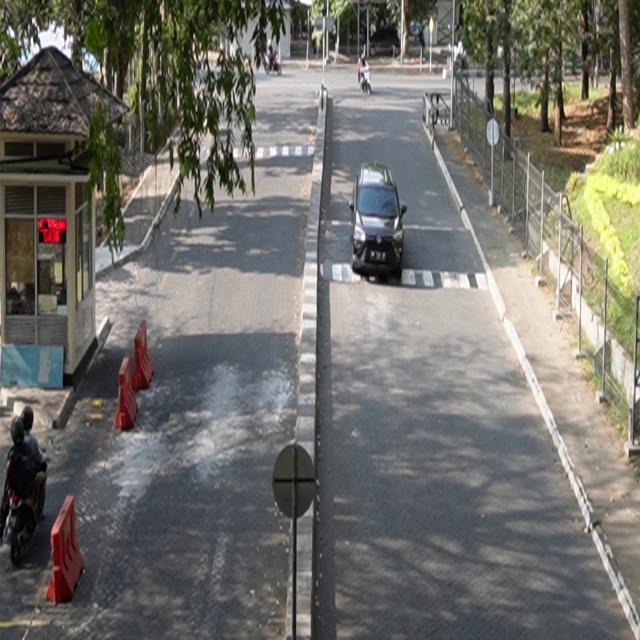car: (349, 162, 408, 279)
